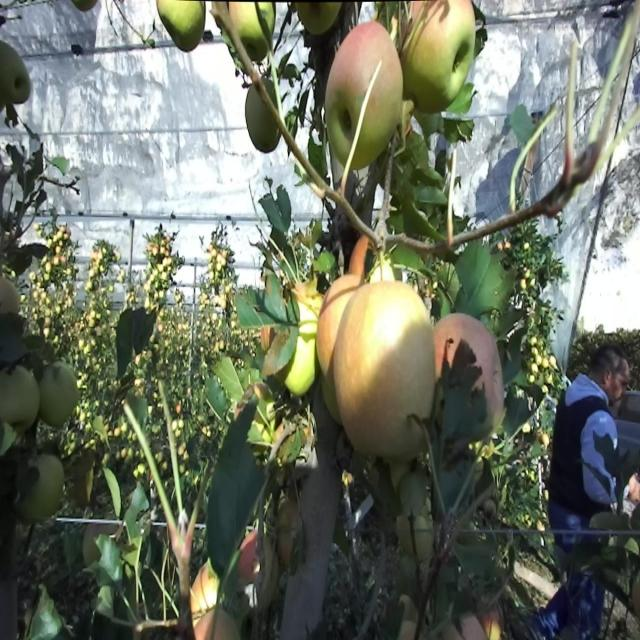apple: (400, 0, 477, 119), (320, 284, 355, 375), (228, 1, 275, 64), (40, 362, 79, 432), (248, 84, 283, 156), (28, 454, 66, 519), (164, 1, 208, 57), (228, 6, 271, 62), (4, 369, 40, 432), (284, 340, 319, 398), (392, 419, 431, 469), (292, 284, 325, 343), (228, 0, 264, 50), (4, 49, 33, 107), (300, 0, 341, 41), (192, 568, 220, 619), (240, 532, 263, 587), (72, 468, 95, 510), (172, 525, 193, 567), (0, 276, 21, 318), (632, 575, 640, 620)
